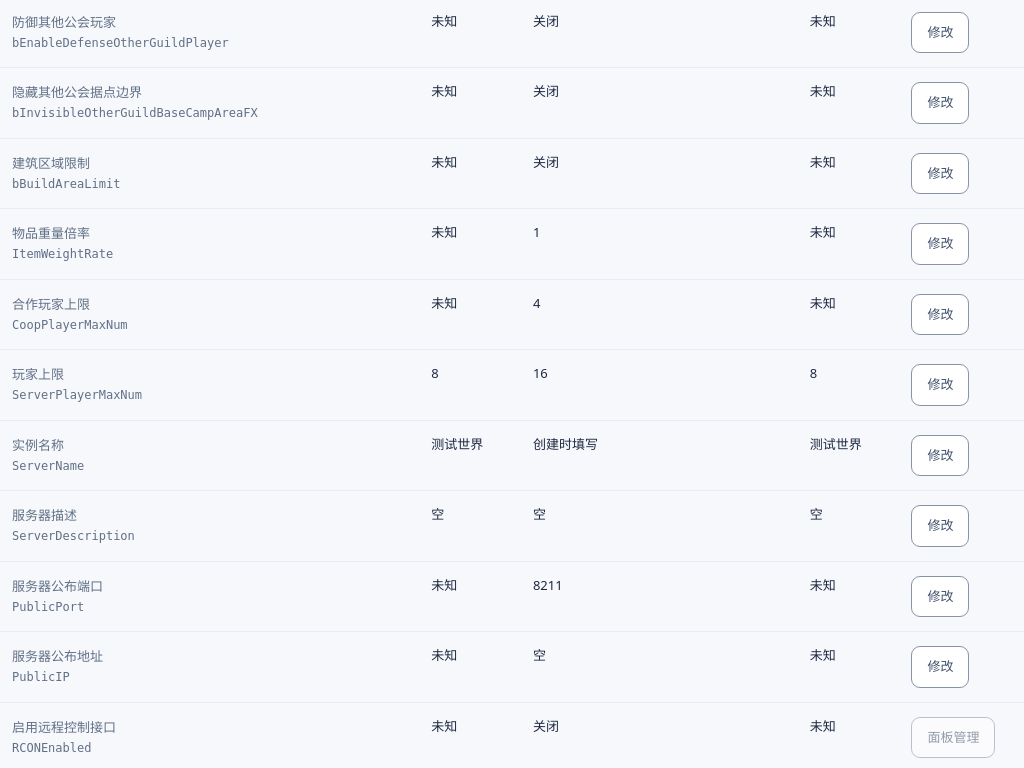
Test: 参数列表编辑 › 整数与范围无效时明确提示，并阻止绕过按钮的表单提交
(page scrolled)
Click the button with aria-label "修改玩家上限".
click(940, 385)  # box [911, 364, 969, 406]
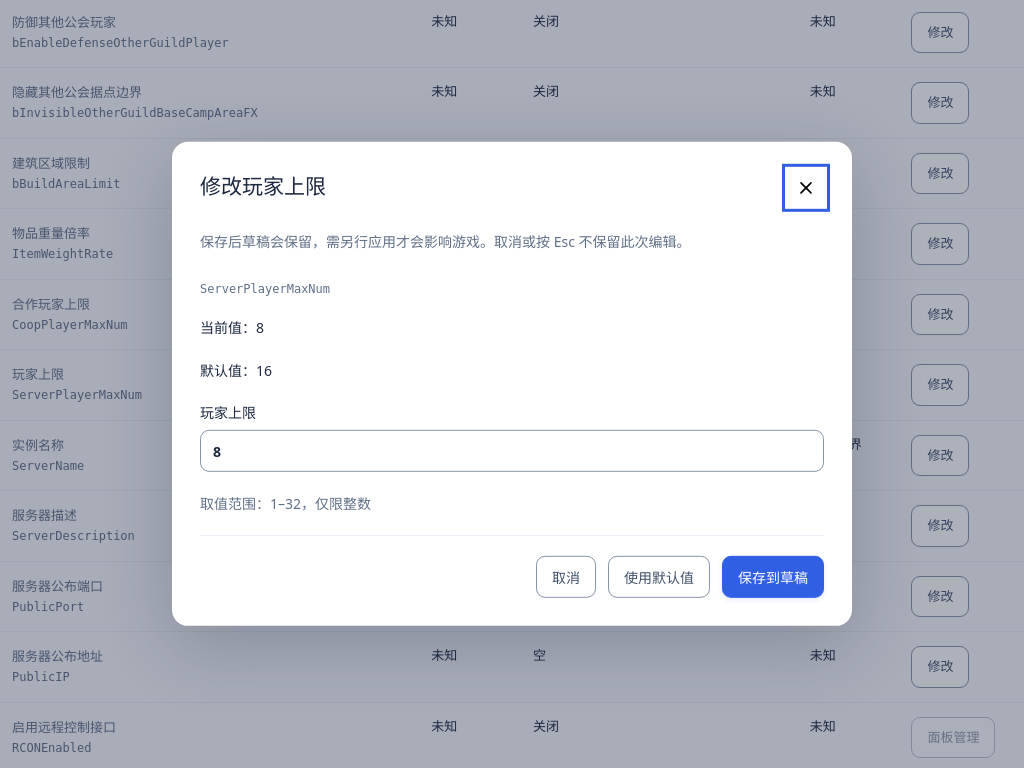
Clear the number field labelled "玩家上限" at (512, 451), box [200, 430, 824, 472]
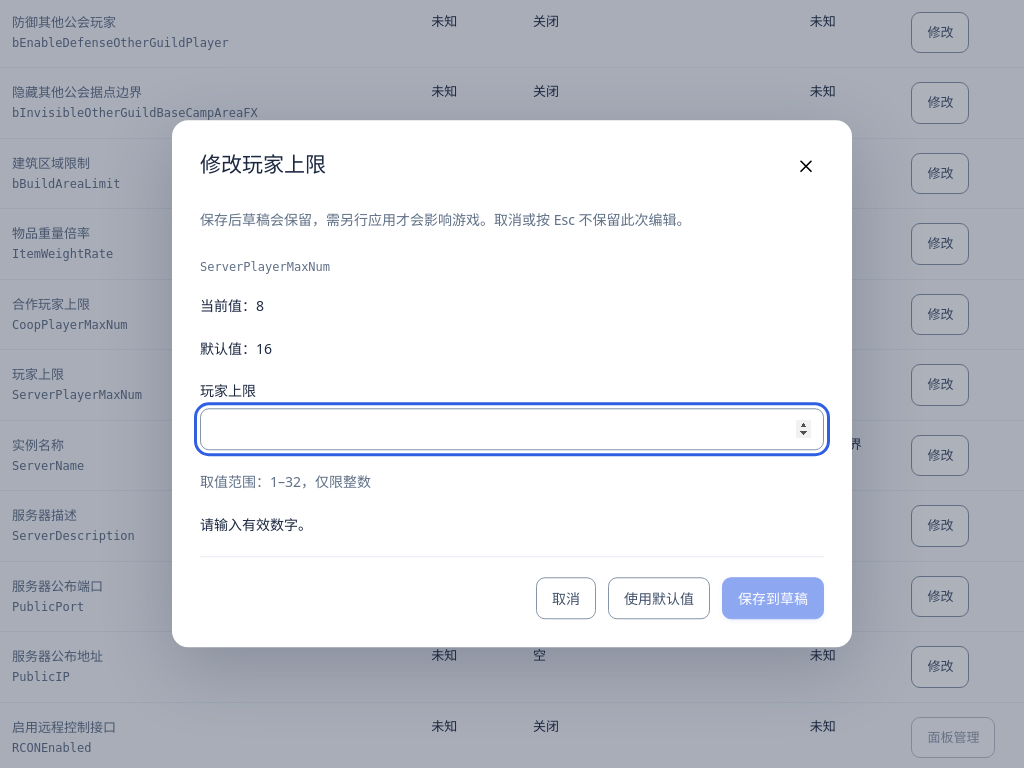
Type "8.5" into the number field labelled "玩家上限".
click(512, 430); type("8.5")  # box [200, 408, 824, 450]
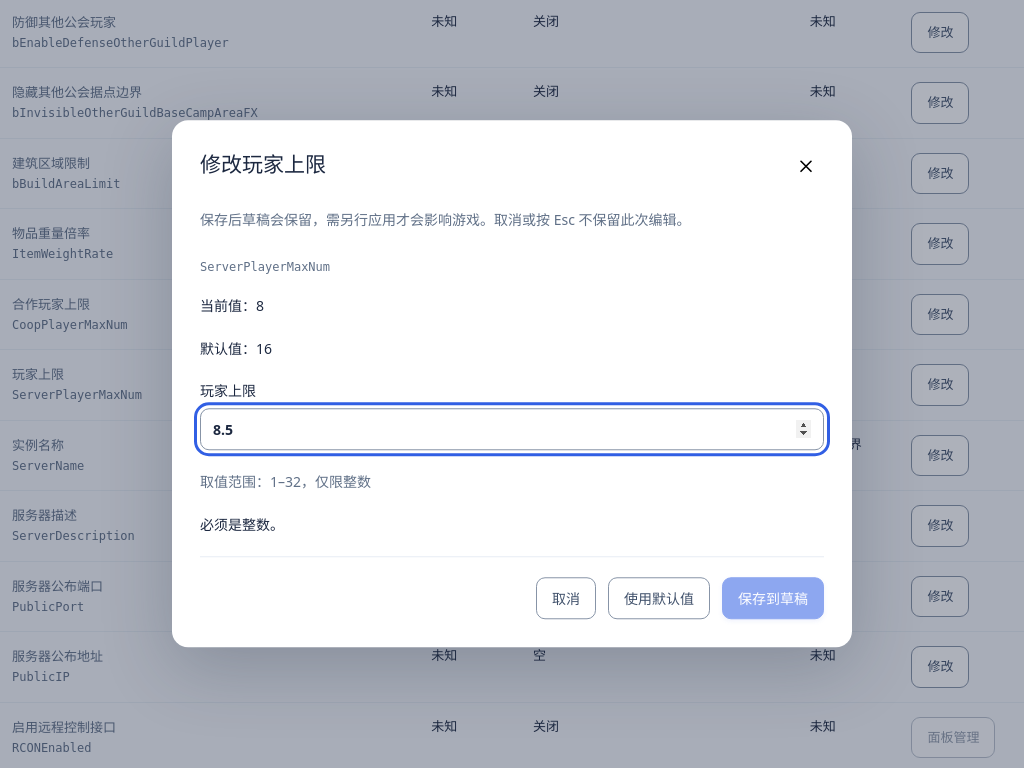
Result: the message shows "必须是整数" at [200, 516, 284, 535]
Submit the form, box [200, 255, 824, 620]
Replace the text in the number field labelled "玩家上限" with "33" at (512, 430), box [200, 408, 824, 450]
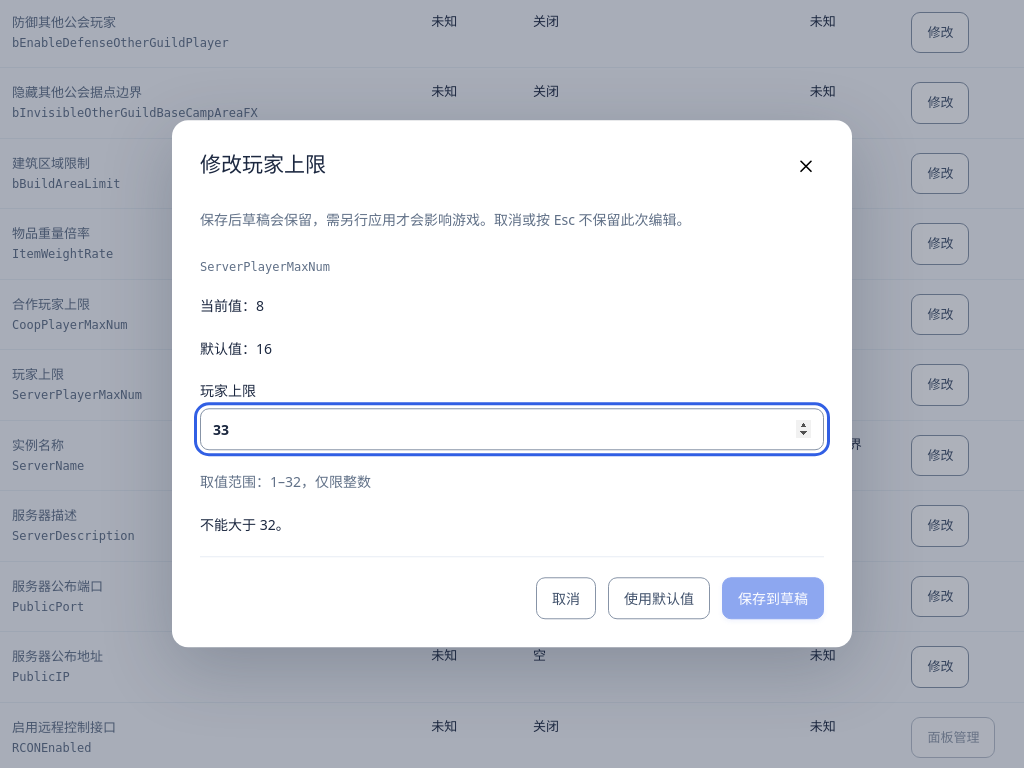
Result: the button "保存到草稿" is disabled at [722, 578, 824, 620]
Result: the message shows "不能大于 32" at [200, 516, 290, 535]
